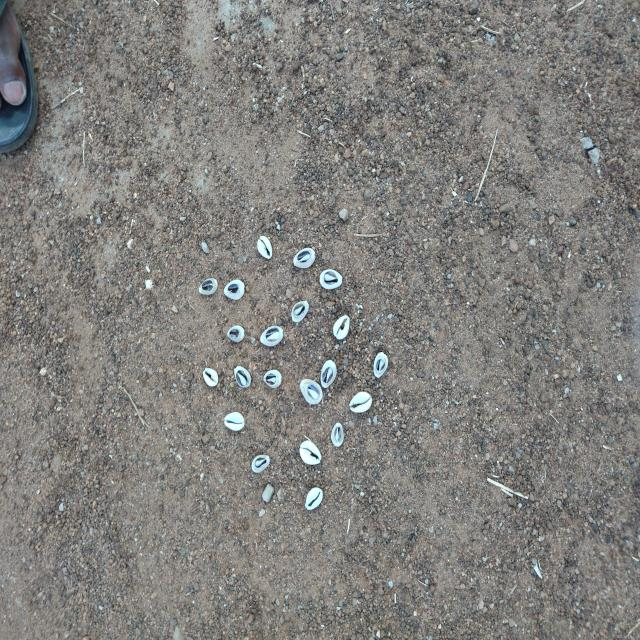facedown: (259, 323, 285, 348), (300, 379, 323, 406), (223, 278, 247, 302), (319, 267, 343, 291), (292, 246, 317, 269), (320, 358, 338, 388), (373, 349, 389, 380), (233, 363, 252, 389), (330, 420, 346, 449), (249, 454, 272, 474), (291, 300, 310, 324), (197, 276, 219, 296), (226, 324, 247, 344), (263, 369, 282, 389)
faceup: (298, 440, 323, 465), (349, 390, 373, 415), (332, 315, 352, 342), (302, 487, 324, 511), (223, 412, 246, 432), (257, 234, 273, 261), (202, 367, 220, 388)
